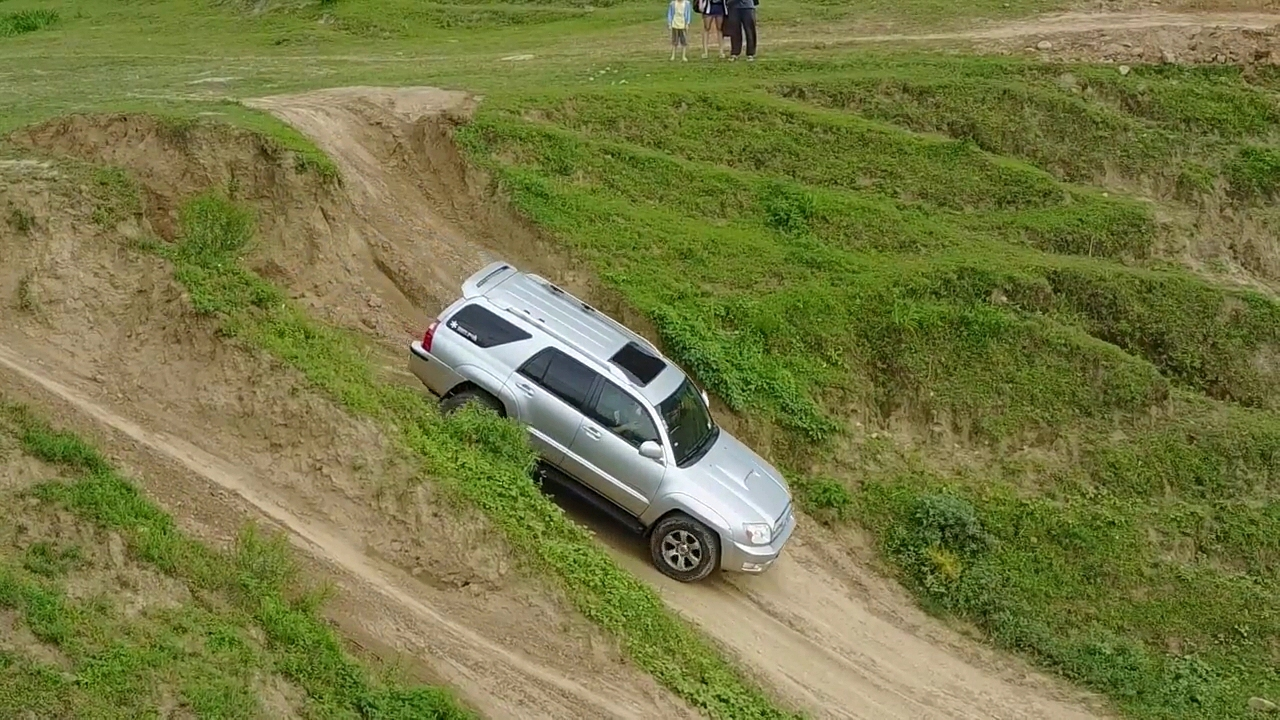araba: (411, 260, 795, 586)
insan: (697, 1, 730, 60), (668, 1, 692, 64), (732, 1, 756, 60)
